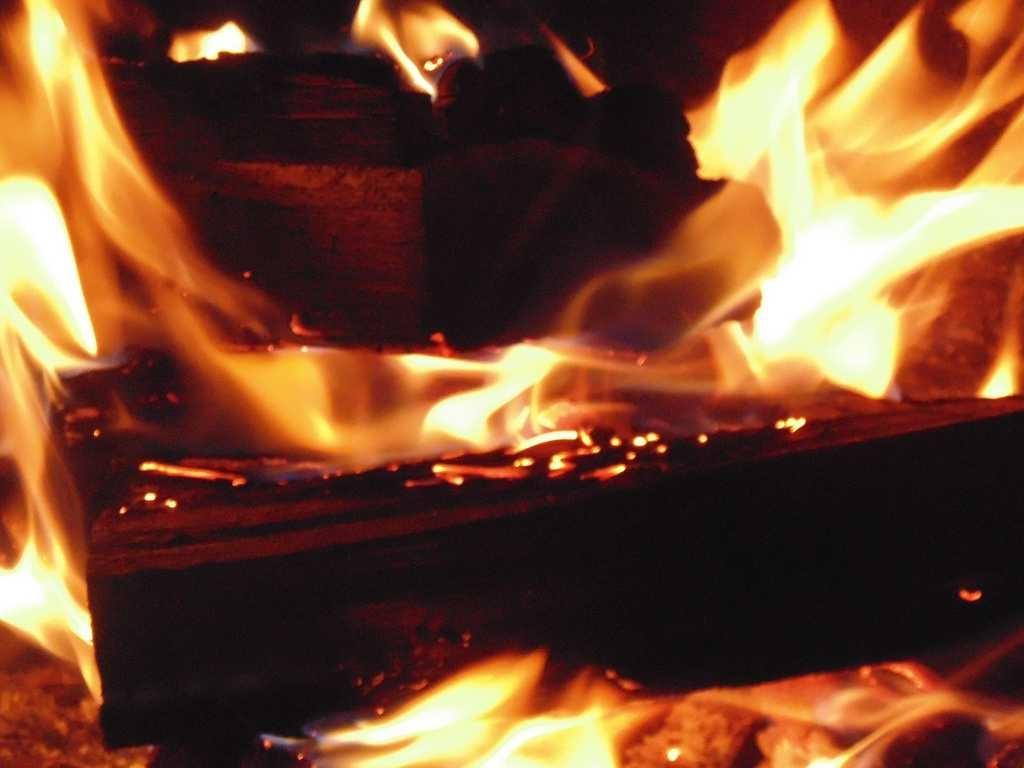fire: (740, 34, 1000, 348), (0, 14, 84, 650), (348, 690, 612, 768)
